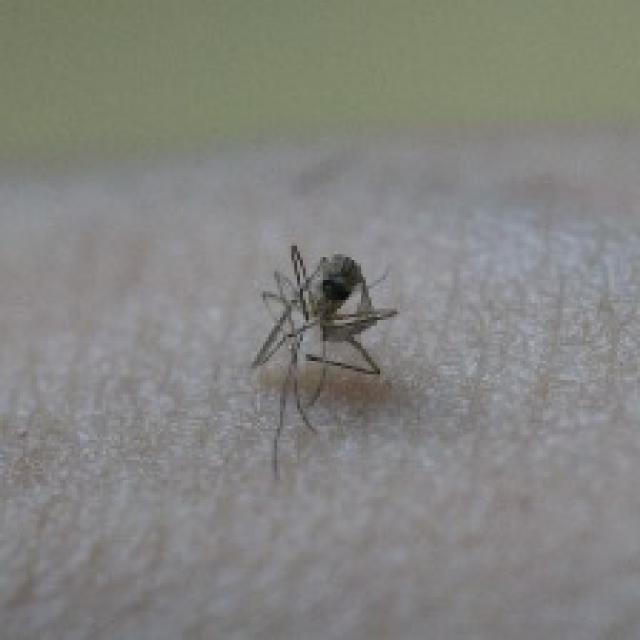culex: (249, 240, 397, 477)
